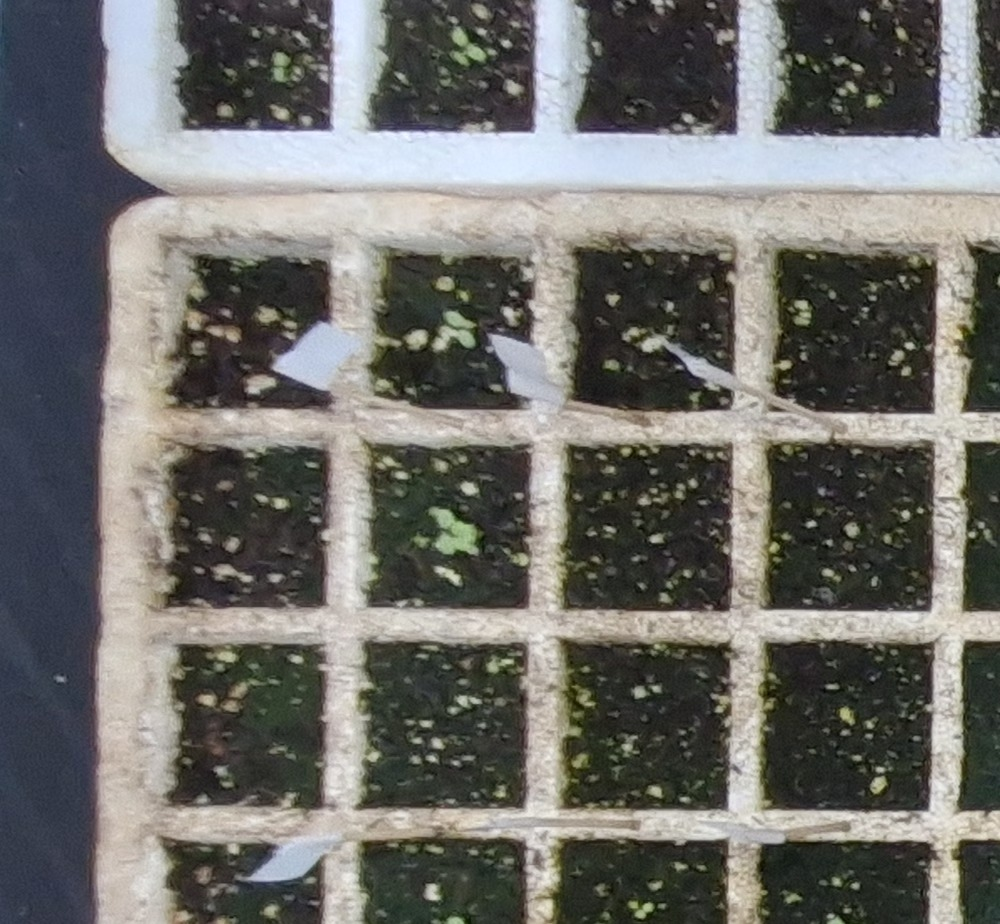Folha: (438, 532, 459, 554), (457, 525, 477, 543), (436, 510, 454, 528), (459, 330, 475, 348), (444, 309, 460, 325), (446, 915, 466, 924), (827, 916, 847, 924), (635, 909, 645, 919), (643, 902, 653, 911)
Germinacao: (433, 509, 481, 557), (442, 312, 476, 348), (628, 900, 654, 919), (827, 916, 871, 924), (444, 916, 477, 924)
